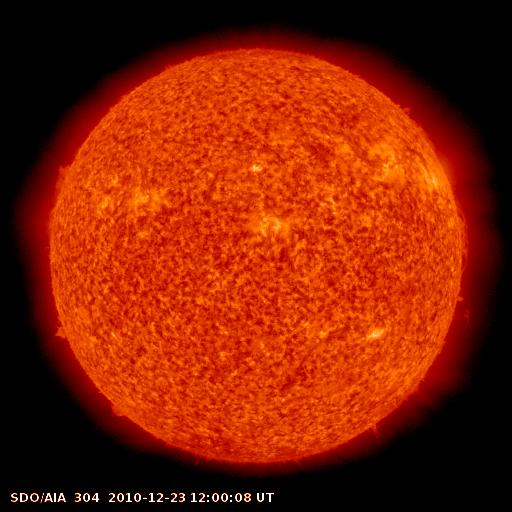prominence: (447, 196, 485, 324), (39, 151, 81, 210), (37, 315, 83, 358), (89, 393, 136, 429)
